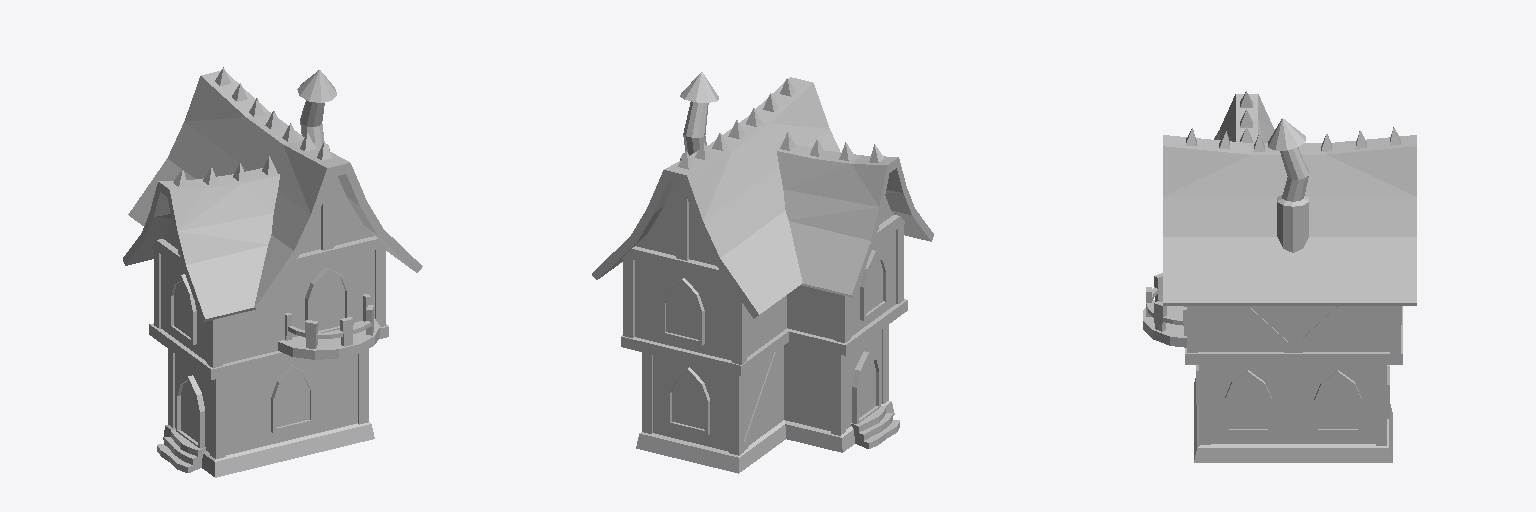
3 renders of one model, left to right at view 1: azimuth 30°, elevation 25°; view 2: azimuth 150°, elevation 25°; view 3: azimuth 270°, elevation 25°, orthographic.
Visible parts, largest first — view 1: Witch house w_Witch house w_0; view 2: Witch house w_Witch house w_0; view 3: Witch house w_Witch house w_0.
Boxes of the visible parts, x1=… form: Witch house w_Witch house w_0: x1=123, y1=67, x2=422, y2=477; Witch house w_Witch house w_0: x1=592, y1=72, x2=933, y2=473; Witch house w_Witch house w_0: x1=1143, y1=91, x2=1416, y2=462.
Size of the model in its own units: 7.54 by 11.26 by 8.2.